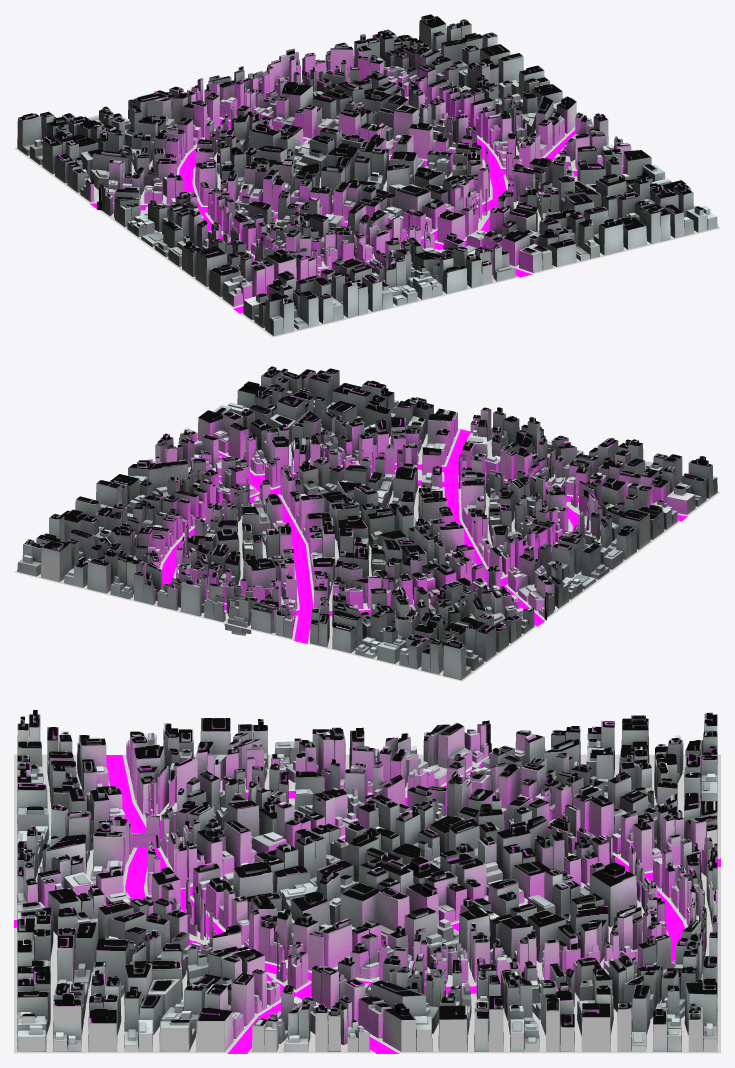
Rendered from city.glb.
The picture shows the model from 3 angles, top to bottom: view 1: azimuth 30°, elevation 25°; view 2: azimuth 150°, elevation 25°; view 3: azimuth 270°, elevation 25°; orthographic projection. The views are drawn at different scales.
Parts seen in each view (by area): view 1: walls.001, roads, rivers; view 2: walls.001, roads, rivers; view 3: walls.001, roads, rivers.
Boxes of the visible parts, box(x1,y1,x2,y2) form: walls.001: box(17, 14, 717, 335); roads: box(14, 78, 720, 337); rivers: box(89, 99, 622, 313); walls.001: box(17, 366, 717, 680); roads: box(14, 428, 720, 681); rivers: box(161, 429, 687, 644); walls.001: box(17, 710, 717, 1051); roads: box(14, 754, 720, 1053); rivers: box(14, 755, 720, 1053).
Bounding box in the file's own units: 150 × 22.7 × 150.
Materials: 2 (1 with a texture image).
